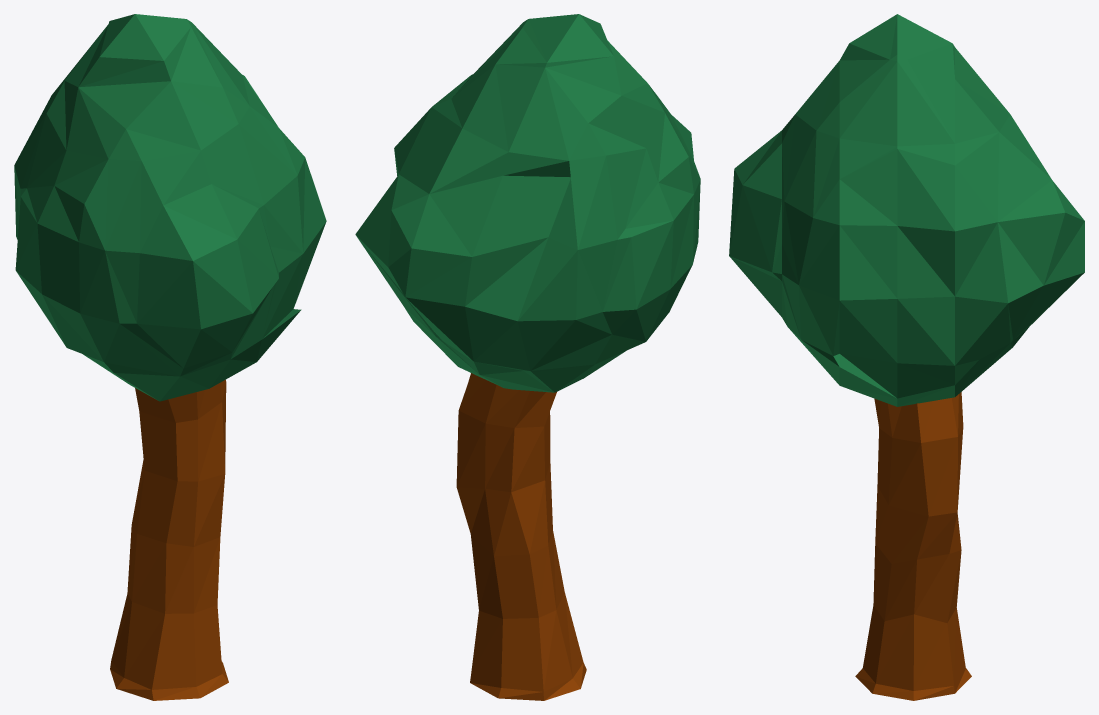
File: tree.fbx
The picture shows the model from 3 angles, left to right: view 1: azimuth 30°, elevation 25°; view 2: azimuth 150°, elevation 25°; view 3: azimuth 270°, elevation 25°; orthographic projection. The views are drawn at different scales.
Visible parts, largest first — view 1: Metaball, Cylinder_1; view 2: Metaball, Cylinder_1; view 3: Metaball, Cylinder_1.
Boxes of the visible parts, bbox=[...] form: Metaball: bbox=[14, 14, 326, 401]; Cylinder_1: bbox=[110, 380, 228, 700]; Metaball: bbox=[355, 14, 700, 392]; Cylinder_1: bbox=[456, 373, 586, 700]; Metaball: bbox=[729, 14, 1084, 406]; Cylinder_1: bbox=[855, 392, 971, 700].
Bounding box in the file's own units: 1363 × 3319 × 1666.
